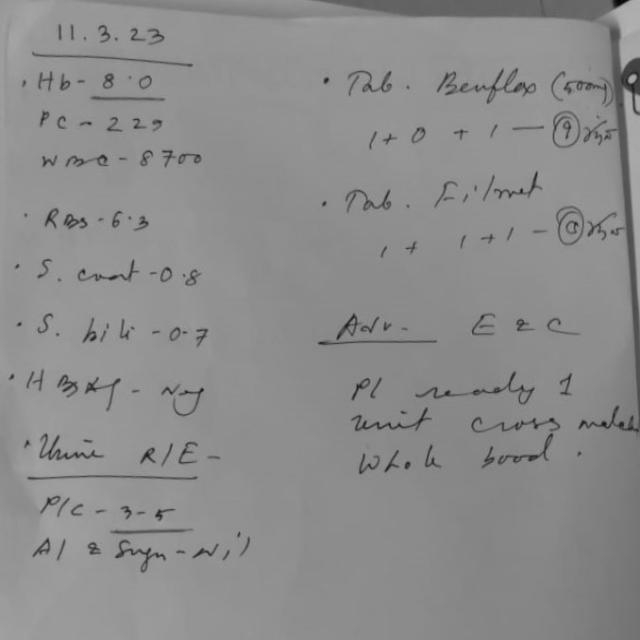medicine: (436, 58, 539, 104)
